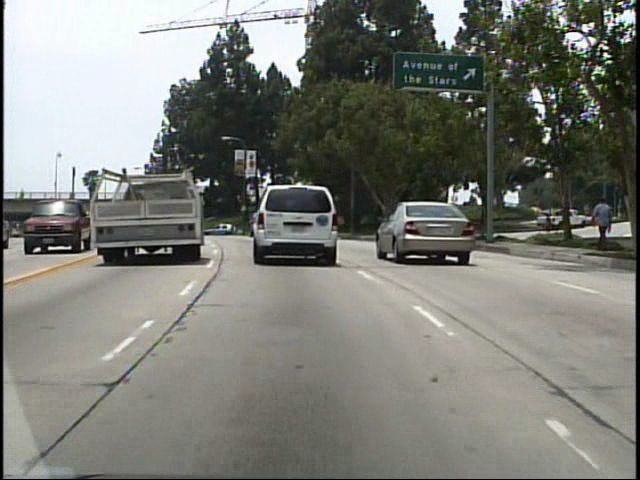person: (586, 191, 610, 256), (16, 185, 26, 204)
